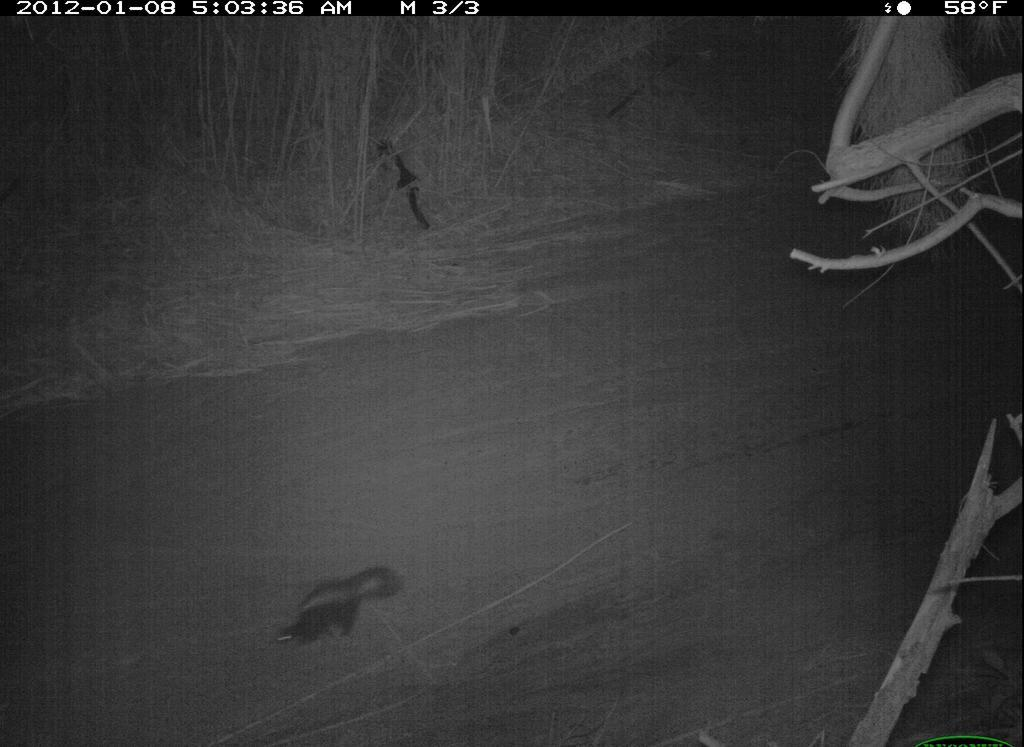skunk: (255, 557, 429, 673)
